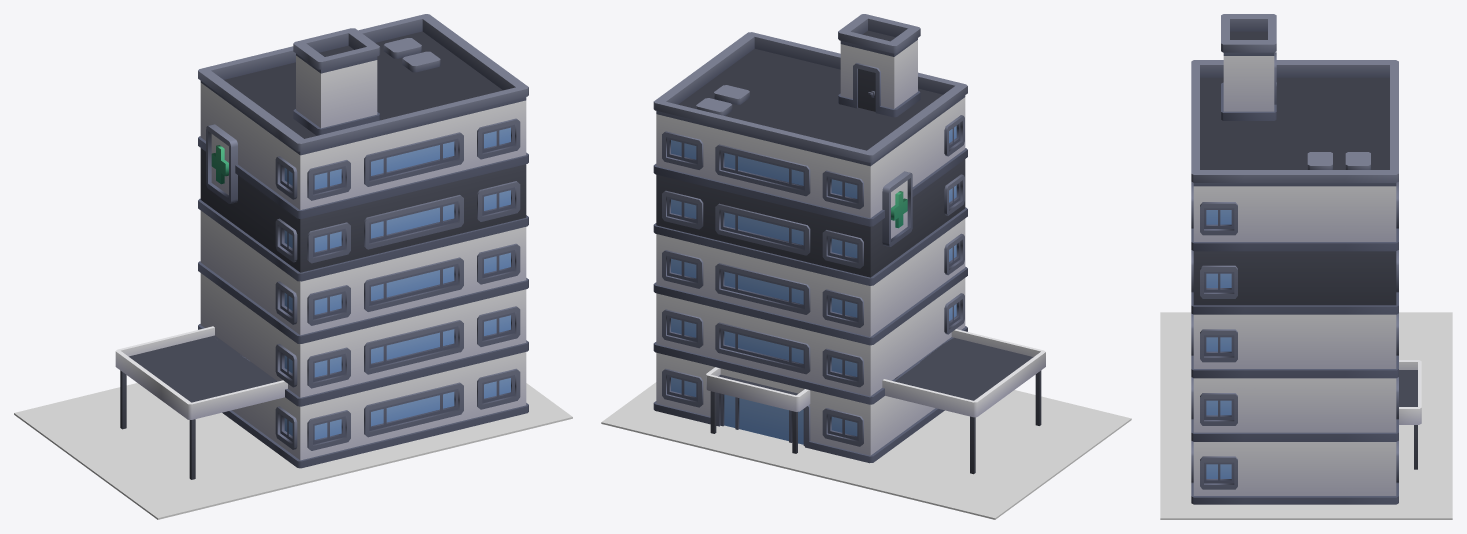
File: hospital.glb
The picture shows the model from 3 angles, left to right: view 1: azimuth 30°, elevation 25°; view 2: azimuth 150°, elevation 25°; view 3: azimuth 270°, elevation 25°; orthographic projection. The views are drawn at different scales.
Parts seen in each view (by area): view 1: building-n, Cube; view 2: building-n, Cube; view 3: building-n, Cube.
Part boxes in pixels (box(x1,y1,x2,y2)): building-n: box(115, 14, 528, 479); Cube: box(14, 383, 572, 519); building-n: box(653, 14, 1045, 474); Cube: box(601, 382, 1131, 519); building-n: box(1191, 14, 1421, 504); Cube: box(1160, 312, 1452, 519).
Size of the model in its own units: 50 by 44.74 by 30.
Materials: 2 (1 with a texture image).
